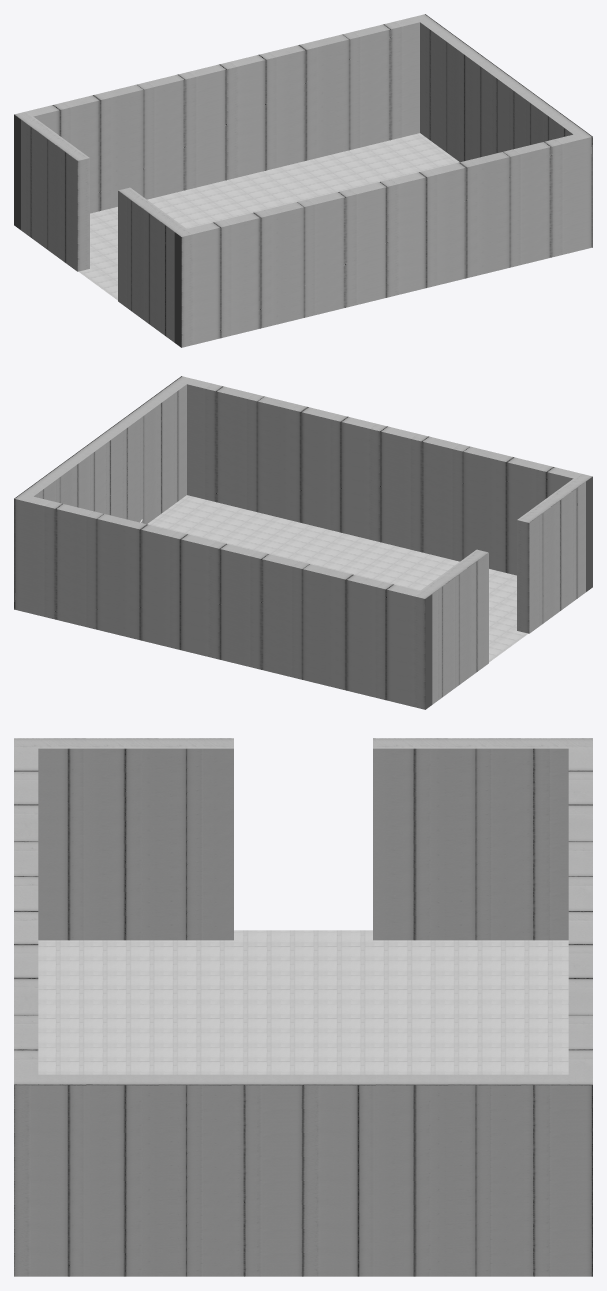
The picture shows the model from 3 angles, top to bottom: view 1: azimuth 30°, elevation 25°; view 2: azimuth 150°, elevation 25°; view 3: azimuth 270°, elevation 25°; orthographic projection. The views are drawn at different scales.
Parts seen in each view (by area): view 1: Plane, Plane.001; view 2: Plane, Plane.001; view 3: Plane, Plane.001.
Boxes of the visible parts, box(x1,y1,x2,y2) form: Plane: box(14, 14, 592, 347); Plane.001: box(79, 133, 459, 300); Plane: box(14, 376, 592, 709); Plane.001: box(147, 495, 527, 662); Plane: box(14, 738, 592, 1276); Plane.001: box(38, 930, 568, 1074).
Size of the model in its own units: 11.66 by 3.16 by 8.22.
Materials: 5 (4 with a texture image).
